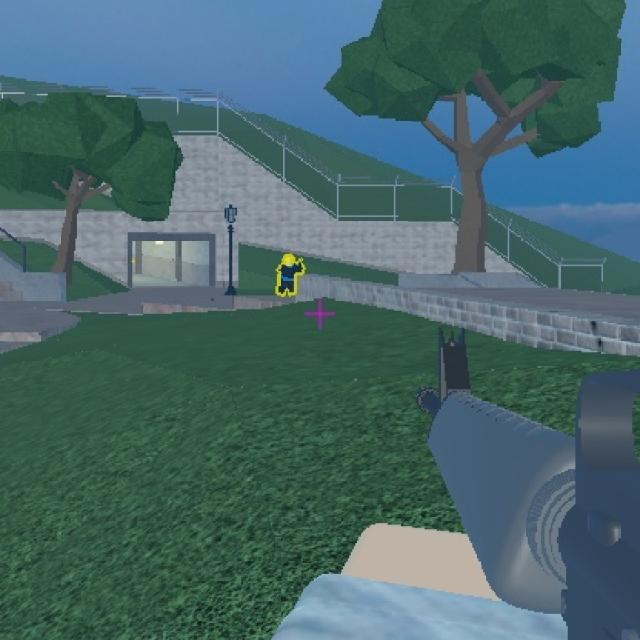player: (274, 252, 302, 298)
